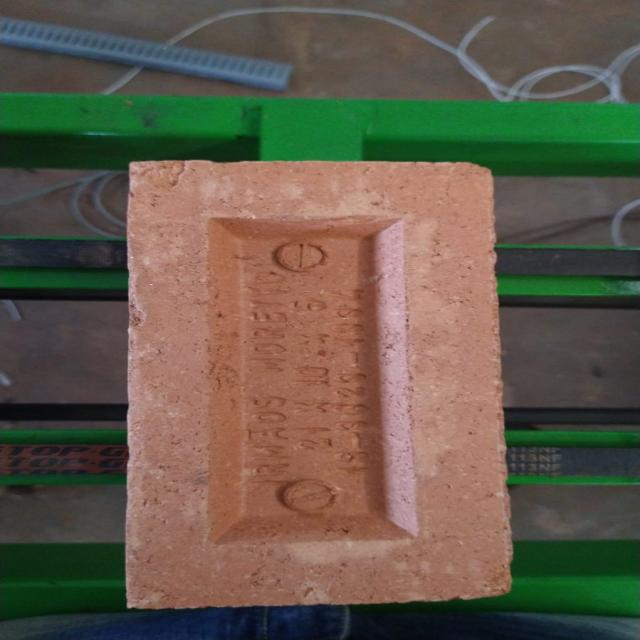bricks: (128, 159, 513, 607)
